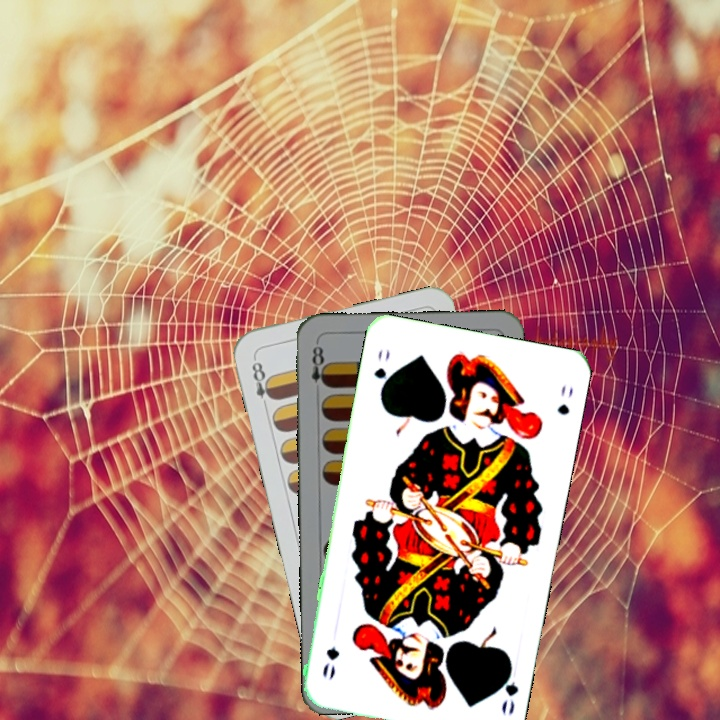E8: (247, 353, 278, 412), (307, 339, 330, 389)
GO: (494, 658, 521, 717), (370, 345, 393, 399)
